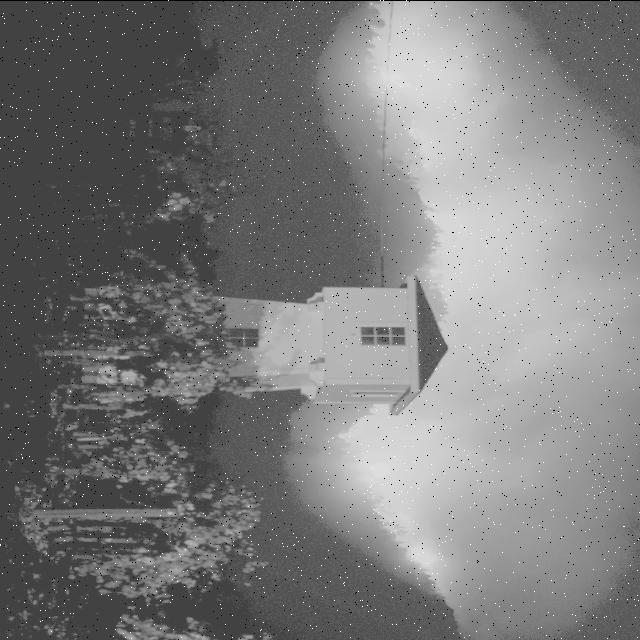api: (365, 53, 431, 98), (391, 536, 454, 578), (407, 106, 439, 177), (356, 457, 409, 490)
asap: (364, 1, 640, 639)
